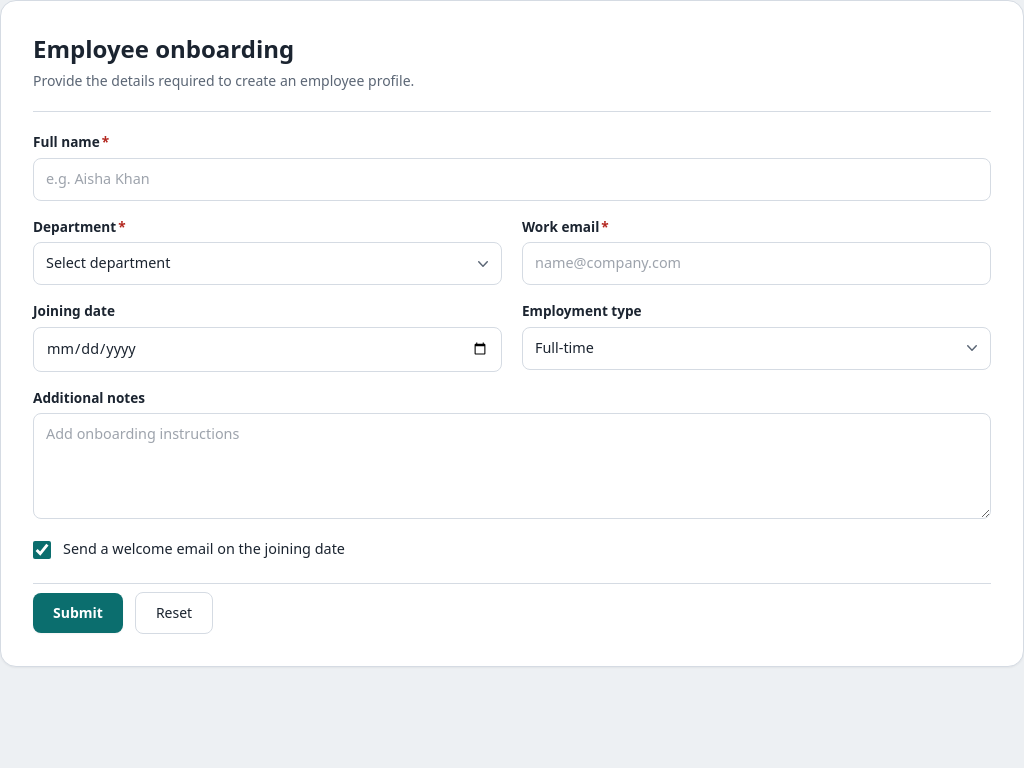
Test case: FormRenderer: submission › resets values back to the configured defaults
This screenshot has width=1024, height=768.
In the field labelled "Full name*": (512, 179) [33,158,991,201], type "Aisha"
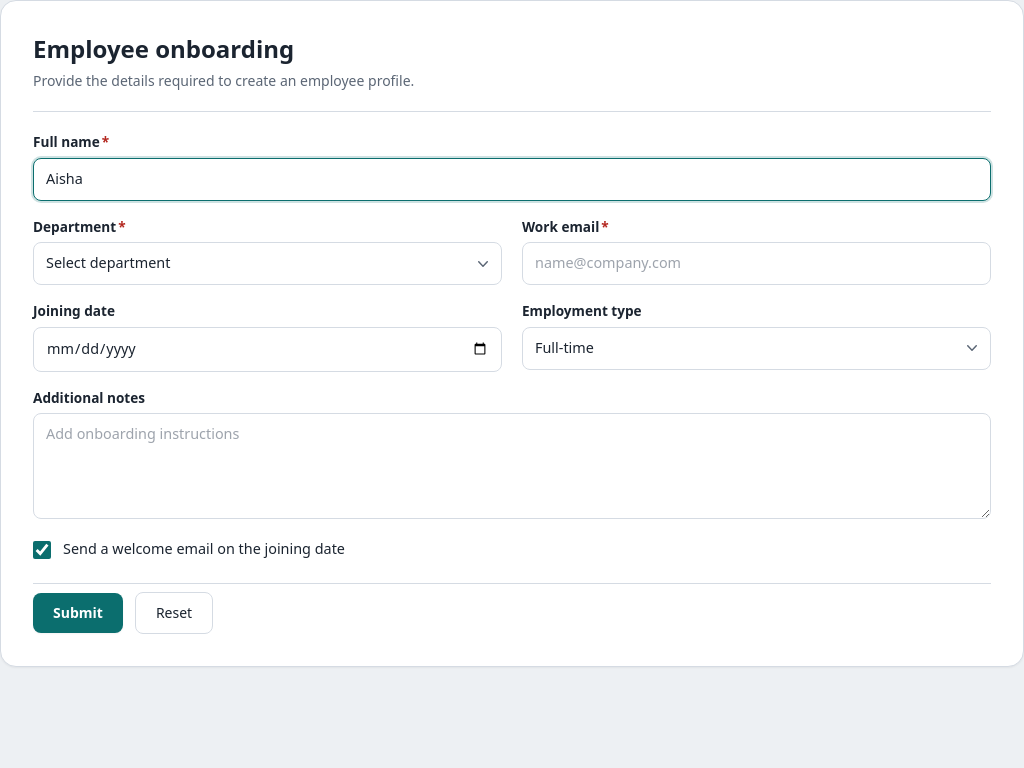
Click the button "Reset": click(174, 613) [135,592,213,634]
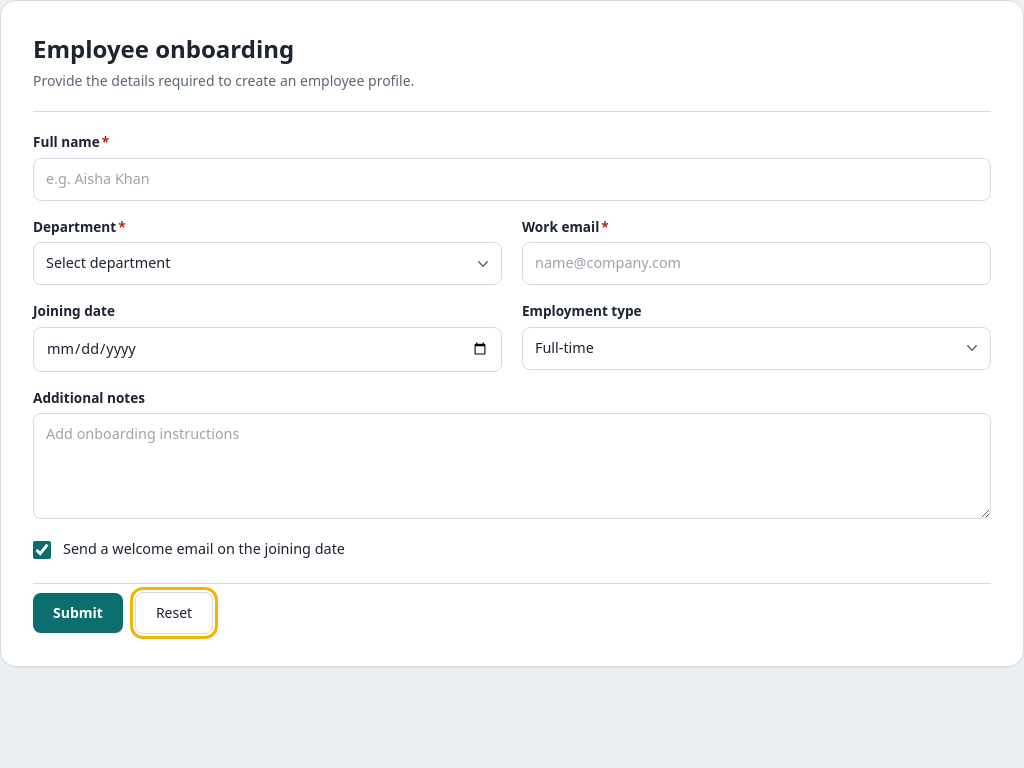
Result: the field labelled "Full name*" is empty at [33,158,991,201]
